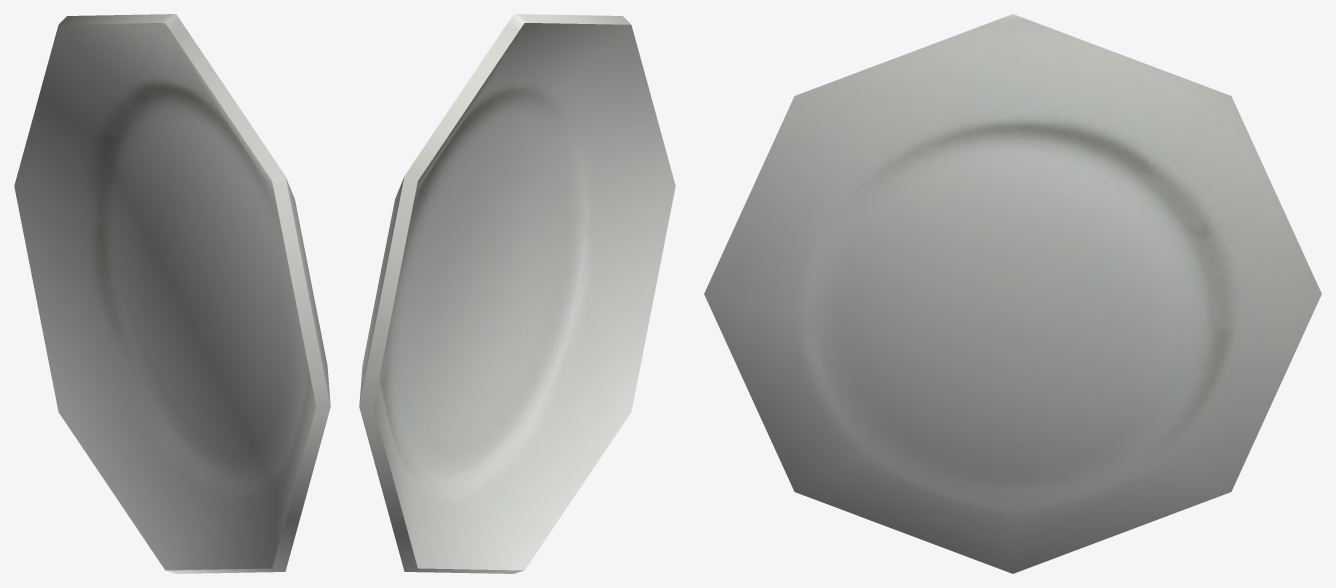
Rendered from Plate.dae.
The picture shows the model from 3 angles, left to right: view 1: azimuth 30°, elevation 25°; view 2: azimuth 150°, elevation 25°; view 3: azimuth 270°, elevation 25°; orthographic projection.
Visible parts, largest first — view 1: Plate; view 2: Plate; view 3: Plate.
Boxes of the visible parts, x1,y1,x2,y2 form: Plate: [14, 14, 330, 573]; Plate: [359, 14, 675, 573]; Plate: [704, 14, 1321, 573].
Size of the model in its own units: 0.0293 by 0.3084 by 0.3084.
Materials: 1 (1 with a texture image).
